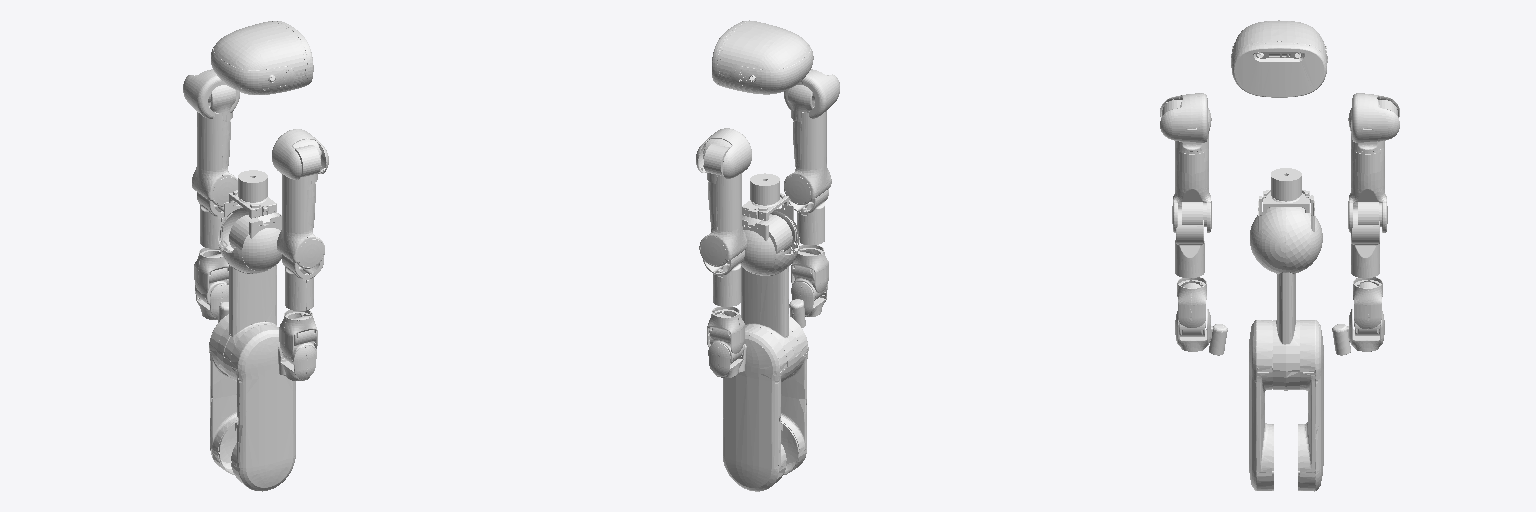
URDF robot description (cloid_v1_body):
<?xml version="1.0" ?>
<!-- =================================================================================== -->
<!-- |    This document was autogenerated by xacro from cloid_v1_body.urdf.xacro       | -->
<!-- |    EDITING THIS FILE BY HAND IS NOT RECOMMENDED                                 | -->
<!-- =================================================================================== -->
<robot name="cloid_v1_body">
  <mujoco_options floating_base="false">
    <exclude body1="chest_link" body2="waist_link_2"/>
    <exclude body1="left_arm_link_5" body2="left_arm_link_7"/>
    <exclude body1="right_arm_link_5" body2="right_arm_link_7"/>
  </mujoco_options>
  <link name="base_link"/>
  <link name="waist_link_1">
    <inertial>
      <origin rpy="0 0 0" xyz="-0.000234 -0.00520979 0.199841"/>
      <mass value="5.74535"/>
      <inertia ixx="0.0937" ixy="7.07e-06" ixz="3.66e-05" iyy="0.0828" iyz="0.00427" izz="0.025"/>
    </inertial>
    <visual>
      <origin rpy="0 0 0" xyz="0 0 0"/>
      <geometry>
        <mesh filename="package://cloid_description/meshes/cloid_v1/visual/waist_link_1.STL"/>
      </geometry>
      <material name="">
        <color rgba="0.95 0.95 0.95 1"/>
      </material>
    </visual>
    <collision>
      <origin rpy="0 0 0" xyz="0 0 0"/>
      <geometry>
        <mesh filename="package://cloid_description/meshes/cloid_v1/collision/waist_link_1.STL"/>
      </geometry>
    </collision>
  </link>
  <joint name="waist_joint_1" type="revolute">
    <origin rpy="0 0 0" xyz="0 0 0.3365"/>
    <parent link="base_link"/>
    <child link="waist_link_1"/>
    <axis xyz="0 1 0"/>
    <limit effort="233" lower="-1.3614" upper="0.0524" velocity="2.618"/>
  </joint>
  <link name="waist_link_2">
    <inertial>
      <origin rpy="0 0 0" xyz="0.000334 -0.00261067 0.228205"/>
      <mass value="5.76416"/>
      <inertia ixx="0.124" ixy="1.85e-05" ixz="-0.00101" iyy="0.127" iyz="0.00585" izz="0.0128"/>
    </inertial>
    <visual>
      <origin rpy="0 0 0" xyz="0 0 0"/>
      <geometry>
        <mesh filename="package://cloid_description/meshes/cloid_v1/visual/waist_link_2.STL"/>
      </geometry>
      <material name="">
        <color rgba="0.95 0.95 0.95 1"/>
      </material>
    </visual>
    <collision>
      <origin rpy="0 0 0" xyz="0 0 0"/>
      <geometry>
        <mesh filename="package://cloid_description/meshes/cloid_v1/collision/waist_link_2.STL"/>
      </geometry>
    </collision>
  </link>
  <joint name="waist_joint_2" type="revolute">
    <origin rpy="0 0 0" xyz="0 0 0.29"/>
    <parent link="waist_link_1"/>
    <child link="waist_link_2"/>
    <axis xyz="0 1 0"/>
    <limit effort="233" lower="-0.0524" upper="2.4086" velocity="2.618"/>
  </joint>
  <link name="waist_link_3">
    <inertial>
      <origin rpy="0 0 0" xyz="-0.000103993 0.0013404 0.0848867"/>
      <mass value="2.1"/>
      <inertia ixx="0.0145" ixy="-2.99e-06" ixz="7.55e-06" iyy="0.0108" iyz="0.000361" izz="0.00627"/>
    </inertial>
    <visual>
      <origin rpy="0 0 0" xyz="0 0 0"/>
      <geometry>
        <mesh filename="package://cloid_description/meshes/cloid_v1/visual/waist_link_3.STL"/>
      </geometry>
      <material name="">
        <color rgba="0.95 0.95 0.95 1"/>
      </material>
    </visual>
    <collision>
      <origin rpy="0 0 0" xyz="0 0 0"/>
      <geometry>
        <mesh filename="package://cloid_description/meshes/cloid_v1/collision/waist_link_3.STL"/>
      </geometry>
    </collision>
  </link>
  <joint name="waist_joint_3" type="revolute">
    <origin rpy="0 0 0" xyz="0 0 0.33"/>
    <parent link="waist_link_2"/>
    <child link="waist_link_3"/>
    <axis xyz="0 1 0"/>
    <limit effort="233" lower="-1.1868" upper="0.8378" velocity="2.618"/>
  </joint>
  <link name="chest_link">
    <inertial>
      <origin rpy="0 0 0" xyz="-0.007396 -0.000864 0.168937"/>
      <mass value="8.42609"/>
      <inertia ixx="0.115" ixy="-0.0023" ixz="-0.00101" iyy="0.0869" iyz="0.000568" izz="0.0841"/>
    </inertial>
    <visual>
      <origin rpy="0 0 0" xyz="0 0 0"/>
      <geometry>
        <mesh filename="package://cloid_description/meshes/cloid_v1/visual/chest_link.STL"/>
      </geometry>
      <material name="">
        <color rgba="0.95 0.95 0.95 1"/>
      </material>
    </visual>
    <collision>
      <origin rpy="0 0 0" xyz="0 0 0"/>
      <geometry>
        <mesh filename="package://cloid_description/meshes/cloid_v1/collision/chest_link.STL"/>
      </geometry>
    </collision>
  </link>
  <joint name="waist_joint_4" type="revolute">
    <origin rpy="0 0 0" xyz="0 0 0.1154"/>
    <parent link="waist_link_3"/>
    <child link="chest_link"/>
    <axis xyz="0 0 1"/>
    <limit effort="70" lower="-1.6581" upper="1.6581" velocity="3.1416"/>
  </joint>
  <link name="neck_link">
    <inertial>
      <origin rpy="0 0 0" xyz="-0.000458 0.000632051 0.0826853"/>
      <mass value="0.810067"/>
      <inertia ixx="0.00135" ixy="-1.69e-06" ixz="3.32e-05" iyy="0.00122" iyz="-6.6e-06" izz="0.000589"/>
    </inertial>
    <visual>
      <origin rpy="0 0 0" xyz="0 0 0"/>
      <geometry>
        <mesh filename="package://cloid_description/meshes/cloid_v1/visual/neck_link.STL"/>
      </geometry>
      <material name="">
        <color rgba="0.95 0.95 0.95 1"/>
      </material>
    </visual>
    <collision>
      <origin rpy="0 0 0" xyz="0 0 0"/>
      <geometry>
        <mesh filename="package://cloid_description/meshes/cloid_v1/collision/neck_link.STL"/>
      </geometry>
    </collision>
  </link>
  <joint name="neck_joint_1" type="revolute">
    <origin rpy="0 0 0" xyz="-0.0196 0 0.288"/>
    <parent link="chest_link"/>
    <child link="neck_link"/>
    <axis xyz="0 0 1"/>
    <limit effort="18" lower="-1.7453" upper="1.7453" velocity="3.1416"/>
  </joint>
  <link name="head_link">
    <inertial>
      <origin rpy="0 0 0" xyz="0.0636927 -0.000385018 0.0168216"/>
      <mass value="3.00418"/>
      <inertia ixx="0.0179" ixy="-0.0001" ixz="-0.000306" iyy="0.0102" iyz="-9.7e-05" izz="0.0219"/>
    </inertial>
    <visual>
      <origin rpy="0 0 0" xyz="0 0 0"/>
      <geometry>
        <mesh filename="package://cloid_description/meshes/cloid_v1/visual/head_link.STL"/>
      </geometry>
      <material name="">
        <color rgba="0.95 0.95 0.95 1"/>
      </material>
    </visual>
    <collision>
      <origin rpy="0 0 0" xyz="0 0 0"/>
      <geometry>
        <mesh filename="package://cloid_description/meshes/cloid_v1/collision/head_link.STL"/>
      </geometry>
    </collision>
  </link>
  <joint name="neck_joint_2" type="revolute">
    <origin rpy="0 0 0" xyz="0 0 0.10395"/>
    <parent link="neck_link"/>
    <child link="head_link"/>
    <axis xyz="0 1 0"/>
    <limit effort="18" lower="-0.192" upper="0.2618" velocity="3.1416"/>
  </joint>
  <link name="left_arm_link_1">
    <inertial>
      <origin rpy="0 0 0" xyz="-0.00467005 -0.0761549 0.000334373"/>
      <mass value="1.19634"/>
      <inertia ixx="0.00185" ixy="-3.65e-05" ixz="8.39e-07" iyy="0.00147" iyz="-3.55e-06" izz="0.00209"/>
    </inertial>
    <visual>
      <origin rpy="0 0 0" xyz="0 0 0"/>
      <geometry>
        <mesh filename="package://cloid_description/meshes/cloid_v1/visual/left_arm_link_1.STL"/>
      </geometry>
      <material name="">
        <color rgba="0.95 0.95 0.95 1"/>
      </material>
    </visual>
    <collision>
      <origin rpy="0 0 0" xyz="0 0 0"/>
      <geometry>
        <mesh filename="package://cloid_description/meshes/cloid_v1/collision/left_arm_link_1.STL"/>
      </geometry>
    </collision>
  </link>
  <joint name="left_arm_joint_1" type="revolute">
    <origin rpy="0 0 0" xyz="0 0.135 0.2225"/>
    <parent link="chest_link"/>
    <child link="left_arm_link_1"/>
    <axis xyz="0 -1 0"/>
    <limit effort="64" lower="-1.8326" upper="3.7525" velocity="3.1416"/>
  </joint>
  <link name="left_arm_link_2">
    <inertial>
      <origin rpy="0 0 0" xyz="0.000335 -5.44e-05 -0.0868782"/>
      <mass value="1.05926"/>
      <inertia ixx="0.00202" ixy="-3.53e-07" ixz="-3.11e-05" iyy="0.00201" iyz="6.7e-06" izz="0.000985"/>
    </inertial>
    <visual>
      <origin rpy="0 0 0" xyz="0 0 0"/>
      <geometry>
        <mesh filename="package://cloid_description/meshes/cloid_v1/visual/left_arm_link_2.STL"/>
      </geometry>
      <material name="">
        <color rgba="0.95 0.95 0.95 1"/>
      </material>
    </visual>
    <collision>
      <origin rpy="0 0 0" xyz="0 0 0"/>
      <geometry>
        <mesh filename="package://cloid_description/meshes/cloid_v1/collision/left_arm_link_2.STL"/>
      </geometry>
    </collision>
  </link>
  <joint name="left_arm_joint_2" type="revolute">
    <origin rpy="0 0 0" xyz="0 0.09 0"/>
    <parent link="left_arm_link_1"/>
    <child link="left_arm_link_2"/>
    <axis xyz="1 0 0"/>
    <limit effort="52" lower="-0.0436" upper="2.4435" velocity="3.1416"/>
  </joint>
  <link name="left_arm_link_3">
    <inertial>
      <origin rpy="0 0 0" xyz="0.00586382 0.00257729 -0.184325"/>
      <mass value="1.43654"/>
      <inertia ixx="0.00845" ixy="-1.46e-05" ixz="0.000409" iyy="0.00839" iyz="0.000172" izz="0.00149"/>
    </inertial>
    <visual>
      <origin rpy="0 0 0" xyz="0 0 0"/>
      <geometry>
        <mesh filename="package://cloid_description/meshes/cloid_v1/visual/left_arm_link_3.STL"/>
      </geometry>
      <material name="">
        <color rgba="0.95 0.95 0.95 1"/>
      </material>
    </visual>
    <collision>
      <origin rpy="0 0 0" xyz="0 0 0"/>
      <geometry>
        <mesh filename="package://cloid_description/meshes/cloid_v1/collision/left_arm_link_3.STL"/>
      </geometry>
    </collision>
  </link>
  <joint name="left_arm_joint_3" type="revolute">
    <origin rpy="0 0 0" xyz="0 0 -0.0694"/>
    <parent link="left_arm_link_2"/>
    <child link="left_arm_link_3"/>
    <axis xyz="0 0 1"/>
    <limit effort="52" lower="-2.9671" upper="2.9671" velocity="3.1416"/>
  </joint>
  <link name="left_arm_link_4">
    <inertial>
      <origin rpy="0 0 0" xyz="-0.00863915 -0.000376 -0.0814235"/>
      <mass value="0.796187"/>
      <inertia ixx="0.00138" ixy="1.01e-06" ixz="-5.73e-05" iyy="0.00138" iyz="2.41e-05" izz="0.000597"/>
    </inertial>
    <visual>
      <origin rpy="0 0 0" xyz="0 0 0"/>
      <geometry>
        <mesh filename="package://cloid_description/meshes/cloid_v1/visual/left_arm_link_4.STL"/>
      </geometry>
      <material name="">
        <color rgba="0.95 0.95 0.95 1"/>
      </material>
    </visual>
    <collision>
      <origin rpy="0 0 0" xyz="0 0 0"/>
      <geometry>
        <mesh filename="package://cloid_description/meshes/cloid_v1/collision/left_arm_link_4.STL"/>
      </geometry>
    </collision>
  </link>
  <joint name="left_arm_joint_4" type="revolute">
    <origin rpy="0 0 0" xyz="0.01 0 -0.2306"/>
    <parent link="left_arm_link_3"/>
    <child link="left_arm_link_4"/>
    <axis xyz="0 -1 0"/>
    <limit effort="52" lower="-0.0873" upper="2.2689" velocity="3.1416"/>
  </joint>
  <link name="left_arm_link_5">
    <inertial>
      <origin rpy="0 0 0" xyz="-0.00298506 6.82e-05 -0.0843005"/>
      <mass value="0.602306"/>
      <inertia ixx="0.000632" ixy="-7.25e-08" ixz="-1.98e-05" iyy="0.000738" iyz="-1.45e-06" izz="0.000405"/>
    </inertial>
    <visual>
      <origin rpy="0 0 0" xyz="0 0 0"/>
      <geometry>
        <mesh filename="package://cloid_description/meshes/cloid_v1/visual/left_arm_link_5.STL"/>
      </geometry>
      <material name="">
        <color rgba="0.95 0.95 0.95 1"/>
      </material>
    </visual>
    <collision>
      <origin rpy="0 0 0" xyz="0 0 0"/>
      <geometry>
        <mesh filename="package://cloid_description/meshes/cloid_v1/collision/left_arm_link_5.STL"/>
      </geometry>
    </collision>
  </link>
  <joint name="left_arm_joint_5" type="revolute">
    <origin rpy="0 0 0" xyz="-0.01 0 -0.118"/>
    <parent link="left_arm_link_4"/>
    <child link="left_arm_link_5"/>
    <axis xyz="0 0 1"/>
    <limit effort="18" lower="-2.618" upper="2.618" velocity="3.1416"/>
  </joint>
  <link name="left_arm_link_6">
    <inertial>
      <origin rpy="0 0 0" xyz="0.000637434 -0.00152295 -0.0497238"/>
      <mass value="0.686344"/>
      <inertia ixx="0.000931" ixy="-7.33e-07" ixz="-2.43e-05" iyy="0.000901" iyz="-1.1e-05" izz="0.000526"/>
    </inertial>
    <visual>
      <origin rpy="0 0 0" xyz="0 0 0"/>
      <geometry>
        <mesh filename="package://cloid_description/meshes/cloid_v1/visual/left_arm_link_6.STL"/>
      </geometry>
      <material name="">
        <color rgba="0.95 0.95 0.95 1"/>
      </material>
    </visual>
    <collision>
      <origin rpy="0 0 0" xyz="0 0 0"/>
      <geometry>
        <mesh filename="package://cloid_description/meshes/cloid_v1/collision/left_arm_link_6.STL"/>
      </geometry>
    </collision>
  </link>
  <joint name="left_arm_joint_6" type="revolute">
    <origin rpy="0 0 0" xyz="0 0 -0.0965"/>
    <parent link="left_arm_link_5"/>
    <child link="left_arm_link_6"/>
    <axis xyz="1 0 0"/>
    <limit effort="18" lower="-1.7453" upper="1.7453" velocity="3.1416"/>
  </joint>
  <link name="left_arm_link_7">
    <inertial>
      <origin rpy="0 0 0" xyz="-0.000254 0.0163529 -0.0467803"/>
      <mass value="0.194618"/>
      <inertia ixx="0.000416" ixy="-3.01e-07" ixz="2.66e-07" iyy="0.000172" iyz="3.9e-05" izz="0.000318"/>
    </inertial>
    <visual>
      <origin rpy="0 0 0" xyz="0 0 0"/>
      <geometry>
        <mesh filename="package://cloid_description/meshes/cloid_v1/visual/left_arm_link_7.STL"/>
      </geometry>
      <material name="">
        <color rgba="0.95 0.95 0.95 1"/>
      </material>
    </visual>
    <collision>
      <origin rpy="0 0 0" xyz="0 0 0"/>
      <geometry>
        <mesh filename="package://cloid_description/meshes/cloid_v1/collision/left_arm_link_7.STL"/>
      </geometry>
    </collision>
  </link>
  <joint name="left_arm_joint_7" type="revolute">
    <origin rpy="0 0 0" xyz="0 0 -0.0605"/>
    <parent link="left_arm_link_6"/>
    <child link="left_arm_link_7"/>
    <axis xyz="0 -1 0"/>
    <limit effort="18" lower="-2.1293" upper="2.0246" velocity="3.1416"/>
  </joint>
  <link name="right_arm_link_1">
    <inertial>
      <origin rpy="0 0 0" xyz="-0.00469001 0.0761802 0.000343853"/>
      <mass value="1.19722"/>
      <inertia ixx="0.00186" ixy="3.77e-05" ixz="1.74e-06" iyy="0.00147" iyz="3.21e-06" izz="0.0021"/>
    </inertial>
    <visual>
      <origin rpy="0 0 0" xyz="0 0 0"/>
      <geometry>
        <mesh filename="package://cloid_description/meshes/cloid_v1/visual/right_arm_link_1.STL"/>
      </geometry>
      <material name="">
        <color rgba="0.95 0.95 0.95 1"/>
      </material>
    </visual>
    <collision>
      <origin rpy="0 0 0" xyz="0 0 0"/>
      <geometry>
        <mesh filename="package://cloid_description/meshes/cloid_v1/collision/right_arm_link_1.STL"/>
      </geometry>
    </collision>
  </link>
  <joint name="right_arm_joint_1" type="revolute">
    <origin rpy="0 0 0" xyz="0 -0.135 0.2225"/>
    <parent link="chest_link"/>
    <child link="right_arm_link_1"/>
    <axis xyz="0 -1 0"/>
    <limit effort="64" lower="-1.8326" upper="3.7525" velocity="3.1416"/>
  </joint>
  <link name="right_arm_link_2">
    <inertial>
      <origin rpy="0 0 0" xyz="0.000335 9.43e-05 -0.0868783"/>
      <mass value="1.05925"/>
      <inertia ixx="0.00202" ixy="4.08e-07" ixz="-3.1e-05" iyy="0.00201" iyz="-7.42e-06" izz="0.000985"/>
    </inertial>
    <visual>
      <origin rpy="0 0 0" xyz="0 0 0"/>
      <geometry>
        <mesh filename="package://cloid_description/meshes/cloid_v1/visual/right_arm_link_2.STL"/>
      </geometry>
      <material name="">
        <color rgba="0.95 0.95 0.95 1"/>
      </material>
    </visual>
    <collision>
      <origin rpy="0 0 0" xyz="0 0 0"/>
      <geometry>
        <mesh filename="package://cloid_description/meshes/cloid_v1/collision/right_arm_link_2.STL"/>
      </geometry>
    </collision>
  </link>
  <joint name="right_arm_joint_2" type="revolute">
    <origin rpy="0 0 0" xyz="0 -0.09 0"/>
    <parent link="right_arm_link_1"/>
    <child link="right_arm_link_2"/>
    <axis xyz="-1 0 0"/>
    <limit effort="52" lower="-0.0436" upper="2.4435" velocity="3.1416"/>
  </joint>
  <link name="right_arm_link_3">
    <inertial>
      <origin rpy="0 0 0" xyz="0.00586416 0.00258405 -0.184321"/>
      <mass value="1.43661"/>
      <inertia ixx="0.00845" ixy="-1.45e-05" ixz="0.000409" iyy="0.00839" iyz="0.000171" izz="0.00149"/>
    </inertial>
    <visual>
      <origin rpy="0 0 0" xyz="0 0 0"/>
      <geometry>
        <mesh filename="package://cloid_description/meshes/cloid_v1/visual/right_arm_link_3.STL"/>
      </geometry>
      <material name="">
        <color rgba="0.95 0.95 0.95 1"/>
      </material>
    </visual>
    <collision>
      <origin rpy="0 0 0" xyz="0 0 0"/>
      <geometry>
        <mesh filename="package://cloid_description/meshes/cloid_v1/collision/right_arm_link_3.STL"/>
      </geometry>
    </collision>
  </link>
  <joint name="right_arm_joint_3" type="revolute">
    <origin rpy="0 0 0" xyz="0 0 -0.0694"/>
    <parent link="right_arm_link_2"/>
    <child link="right_arm_link_3"/>
    <axis xyz="0 0 -1"/>
    <limit effort="52" lower="-2.9671" upper="2.9671" velocity="3.1416"/>
  </joint>
  <link name="right_arm_link_4">
    <inertial>
      <origin rpy="0 0 0" xyz="-0.00863915 -0.000376 -0.0814235"/>
      <mass value="0.796187"/>
      <inertia ixx="0.00138" ixy="1.01e-06" ixz="-5.73e-05" iyy="0.00138" iyz="2.41e-05" izz="0.000597"/>
    </inertial>
    <visual>
      <origin rpy="0 0 0" xyz="0 0 0"/>
      <geometry>
        <mesh filename="package://cloid_description/meshes/cloid_v1/visual/right_arm_link_4.STL"/>
      </geometry>
      <material name="">
        <color rgba="0.95 0.95 0.95 1"/>
      </material>
    </visual>
    <collision>
      <origin rpy="0 0 0" xyz="0 0 0"/>
      <geometry>
        <mesh filename="package://cloid_description/meshes/cloid_v1/collision/right_arm_link_4.STL"/>
      </geometry>
    </collision>
  </link>
  <joint name="right_arm_joint_4" type="revolute">
    <origin rpy="0 0 0" xyz="0.01 0 -0.2306"/>
    <parent link="right_arm_link_3"/>
    <child link="right_arm_link_4"/>
    <axis xyz="0 -1 0"/>
    <limit effort="52" lower="-0.0873" upper="2.2689" velocity="3.1416"/>
  </joint>
  <link name="right_arm_link_5">
    <inertial>
      <origin rpy="0 0 0" xyz="0.00299839 -6.8216e-05 -0.0843005"/>
      <mass value="0.602306"/>
      <inertia ixx="0.000632" ixy="-7.85e-08" ixz="1.37e-05" iyy="0.000738" iyz="1.46e-06" izz="0.000404"/>
    </inertial>
    <visual>
      <origin rpy="0 0 0" xyz="0 0 0"/>
      <geometry>
        <mesh filename="package://cloid_description/meshes/cloid_v1/visual/right_arm_link_5.STL"/>
      </geometry>
      <material name="">
        <color rgba="0.95 0.95 0.95 1"/>
      </material>
    </visual>
    <collision>
      <origin rpy="0 0 0" xyz="0 0 0"/>
      <geometry>
        <mesh filename="package://cloid_description/meshes/cloid_v1/collision/right_arm_link_5.STL"/>
      </geometry>
    </collision>
  </link>
  <joint name="right_arm_joint_5" type="revolute">
    <origin rpy="0 0 0" xyz="-0.01 0 -0.118"/>
    <parent link="right_arm_link_4"/>
    <child link="right_arm_link_5"/>
    <axis xyz="0 0 -1"/>
    <limit effort="18" lower="-2.618" upper="2.618" velocity="3.1416"/>
  </joint>
  <link name="right_arm_link_6">
    <inertial>
      <origin rpy="0 0 0" xyz="-0.00076704 0.00152295 -0.0497238"/>
      <mass value="0.686344"/>
      <inertia ixx="0.000931" ixy="-7.33e-07" ixz="2.43e-05" iyy="0.000901" iyz="1.1e-05" izz="0.000526"/>
    </inertial>
    <visual>
      <origin rpy="0 0 0" xyz="0 0 0"/>
      <geometry>
        <mesh filename="package://cloid_description/meshes/cloid_v1/visual/right_arm_link_6.STL"/>
      </geometry>
      <material name="">
        <color rgba="0.95 0.95 0.95 1"/>
      </material>
    </visual>
    <collision>
      <origin rpy="0 0 0" xyz="0 0 0"/>
      <geometry>
        <mesh filename="package://cloid_description/meshes/cloid_v1/collision/right_arm_link_6.STL"/>
      </geometry>
    </collision>
  </link>
  <joint name="right_arm_joint_6" type="revolute">
    <origin rpy="0 0 0" xyz="0 0 -0.0965"/>
    <parent link="right_arm_link_5"/>
    <child link="right_arm_link_6"/>
    <axis xyz="-1 0 0"/>
    <limit effort="18" lower="-1.7453" upper="1.7453" velocity="3.1416"/>
  </joint>
  <link name="right_arm_link_7">
    <inertial>
      <origin rpy="0 0 0" xyz="0.000124 -0.0163529 -0.0467803"/>
      <mass value="0.194618"/>
      <inertia ixx="0.000416" ixy="-3.02e-07" ixz="-2.67e-07" iyy="0.000172" iyz="-3.9e-05" izz="0.000318"/>
    </inertial>
    <visual>
      <origin rpy="0 0 0" xyz="0 0 0"/>
      <geometry>
        <mesh filename="package://cloid_description/meshes/cloid_v1/visual/right_arm_link_7.STL"/>
      </geometry>
      <material name="">
        <color rgba="0.95 0.95 0.95 1"/>
      </material>
    </visual>
    <collision>
      <origin rpy="0 0 0" xyz="0 0 0"/>
      <geometry>
        <mesh filename="package://cloid_description/meshes/cloid_v1/collision/right_arm_link_7.STL"/>
      </geometry>
    </collision>
  </link>
  <joint name="right_arm_joint_7" type="revolute">
    <origin rpy="0 0 0" xyz="0 0 -0.0605"/>
    <parent link="right_arm_link_6"/>
    <child link="right_arm_link_7"/>
    <axis xyz="0 -1 0"/>
    <limit effort="18" lower="-2.0246" upper="2.1293" velocity="3.1416"/>
  </joint>
  <link name="chest_imu"/>
  <joint name="chest_imu_joint" type="fixed">
    <parent link="chest_link"/>
    <child link="chest_imu"/>
    <origin rpy="1.5708 0.0 -1.5708" xyz="0.0 0.0 0.1"/>
  </joint>
</robot>

--- Render facts (derived) ---
3 views of the same robot in one strip: view 1: azimuth 30°, elevation 25°; view 2: azimuth 150°, elevation 25°; view 3: azimuth 270°, elevation 25° (orthographic).
Model cloid_v1_body with 22 links and 21 joints (20 revolute, 1 fixed), rooted at base_link, posed all joints at 0.
Visible links, largest first — view 1: waist_link_1, head_link, waist_link_2, waist_link_3, right_arm_link_3, left_arm_link_3, right_arm_link_1, right_arm_link_4, left_arm_link_1, right_arm_link_5, left_arm_link_4, right_arm_link_7 (+3 smaller); view 2: waist_link_1, head_link, waist_link_2, waist_link_3, right_arm_link_3, left_arm_link_3, left_arm_link_1, left_arm_link_4, right_arm_link_4, right_arm_link_1, left_arm_link_5, right_arm_link_7 (+3 smaller); view 3: waist_link_1, head_link, waist_link_2, waist_link_3, right_arm_link_3, left_arm_link_3, left_arm_link_1, right_arm_link_1, right_arm_link_4, left_arm_link_4, left_arm_link_5, right_arm_link_5 (+4 smaller).
Boxes of the visible links, x1,y1,x2,y2 form: waist_link_1: (209,314,295,491); head_link: (211,21,313,94); waist_link_2: (217,205,280,381); waist_link_3: (218,170,281,270); right_arm_link_3: (277,174,324,268); left_arm_link_3: (192,103,237,206); right_arm_link_1: (272,129,328,179); right_arm_link_4: (282,254,323,310); left_arm_link_1: (183,69,239,118); right_arm_link_5: (279,310,317,357); left_arm_link_4: (197,192,237,248); right_arm_link_7: (278,345,315,380); waist_link_1: (723,316,808,491); head_link: (712,20,813,94); waist_link_2: (741,208,800,382); waist_link_3: (741,173,798,273); right_arm_link_3: (784,102,831,204); left_arm_link_3: (699,173,746,266); left_arm_link_1: (696,128,751,178); left_arm_link_4: (703,250,744,306); right_arm_link_4: (789,189,828,244); right_arm_link_1: (784,69,839,118); left_arm_link_5: (707,306,744,353); right_arm_link_7: (789,282,827,327); waist_link_1: (1249,320,1323,491); head_link: (1231,20,1327,97); waist_link_2: (1262,207,1310,390); waist_link_3: (1250,168,1322,264); right_arm_link_3: (1172,146,1211,232); left_arm_link_3: (1348,146,1387,232); left_arm_link_1: (1352,93,1399,142); right_arm_link_1: (1160,93,1207,142); right_arm_link_4: (1175,209,1204,277); left_arm_link_4: (1351,209,1379,277); left_arm_link_5: (1353,277,1382,329); right_arm_link_5: (1177,277,1206,327).
Bounding box of the posed robot: 0.2293 × 0.6155 × 1.31 m (x, y, z).
19 mesh visuals loaded from 20 distinct referenced files (19 binary STL); not drawn: 1 (reference not matched to a file when rendering).
